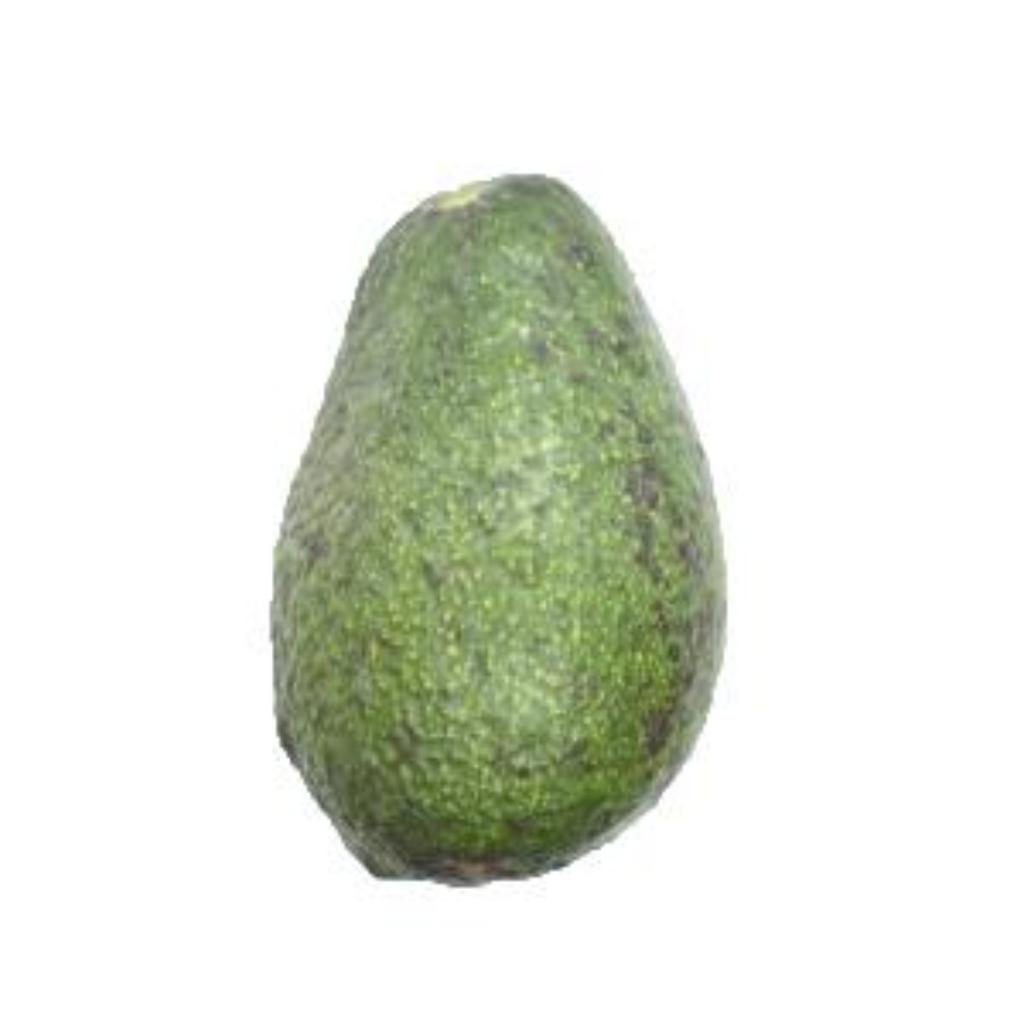cercospora: (238, 158, 757, 895)
